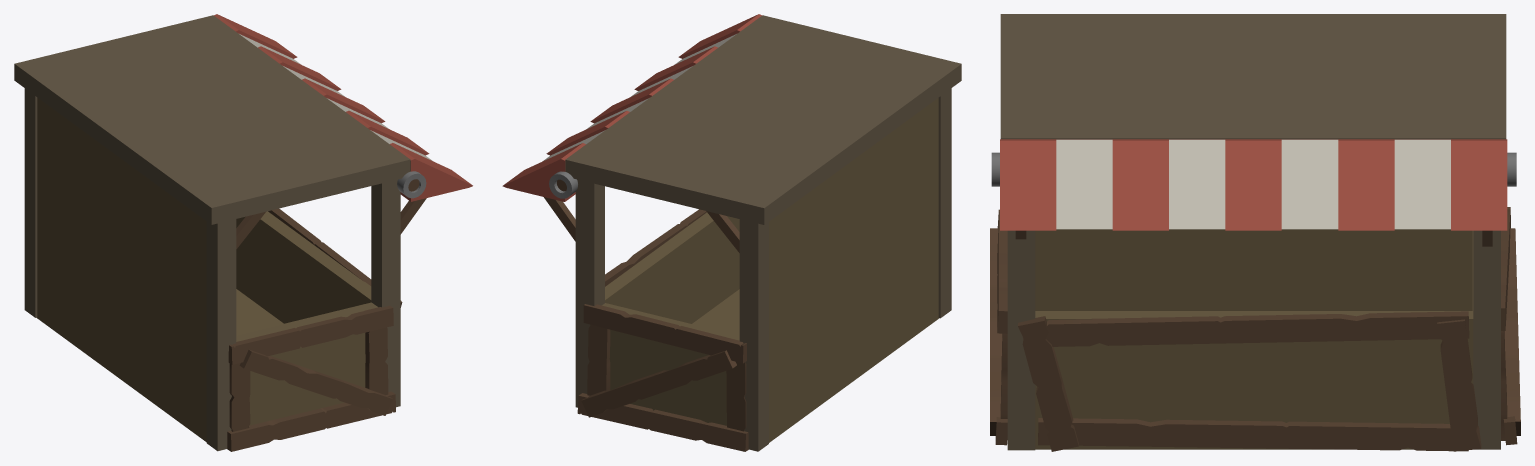
File: MARKET STALL red.fbx
The picture shows the model from 3 angles, left to right: view 1: azimuth 30°, elevation 25°; view 2: azimuth 150°, elevation 25°; view 3: azimuth 270°, elevation 25°; orthographic projection. The views are drawn at different scales.
Visible parts, largest first — view 1: pCube1, pCube6, pCube5, pCube7, pCube2, pCube16, pCube20, pCube17, pCube4, pCube13, pCube14, pCube9 (+1 smaller); view 2: pCube1, pCube6, pCube4, pCube7, pCube3, pCube19, pCube18, pCube21, pCube5, pCube15, pCube12, pCube9 (+3 smaller); view 3: pCube1, pCube6, pCube7, pCube9, pCube8, pCube3, pCube2, pCube10, pCube11, pCube21, pCube20, pCube16 (+3 smaller).
Boxes of the visible parts, box(x1,y1,x2,y2) form: pCube1: box(36, 97, 377, 441); pCube6: box(14, 15, 410, 224); pCube5: box(206, 219, 236, 451); pCube7: box(214, 14, 472, 201); pCube2: box(371, 179, 400, 407); pCube16: box(228, 305, 393, 364); pCube20: box(239, 349, 392, 415); pCube17: box(227, 391, 395, 451); pCube4: box(24, 88, 37, 317); pCube13: box(364, 307, 388, 394); pCube14: box(229, 363, 250, 431); pCube9: box(268, 208, 371, 285); pCube1: box(602, 98, 939, 442); pCube6: box(565, 15, 961, 224); pCube4: box(739, 219, 768, 451); pCube7: box(502, 14, 761, 201); pCube3: box(575, 179, 604, 407); pCube19: box(583, 304, 746, 363); pCube18: box(577, 393, 748, 451); pCube21: box(581, 350, 736, 417); pCube5: box(938, 88, 951, 318); pCube15: box(587, 324, 610, 395); pCube12: box(726, 362, 746, 431); pCube9: box(605, 209, 706, 286); pCube1: box(1035, 229, 1473, 449); pCube6: box(1000, 14, 1506, 139); pCube7: box(1000, 139, 1507, 230); pCube9: box(1046, 311, 1469, 346); pCube8: box(1038, 418, 1468, 451); pCube3: box(1473, 230, 1500, 449); pCube2: box(1007, 230, 1035, 450); pCube10: box(1017, 316, 1078, 451); pCube11: box(1437, 319, 1481, 451); pCube21: box(1504, 228, 1520, 435); pCube20: box(990, 228, 1002, 435); pCube16: box(997, 209, 1007, 333).
Size of the model in its own units: 11.33 by 10.25 by 15.53.
